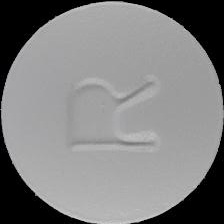55111-189: (0, 0, 224, 224)
